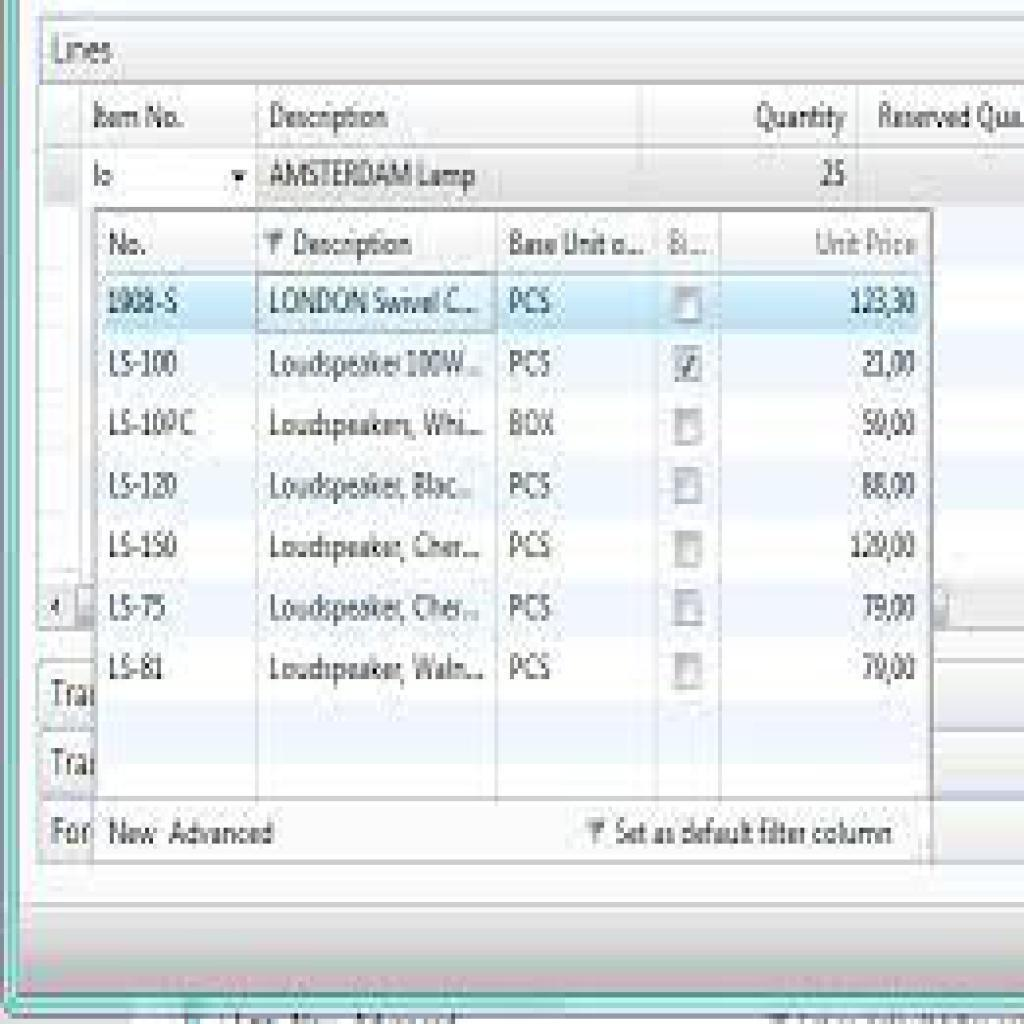checkbox: (672, 343, 706, 384), (670, 284, 702, 322), (674, 588, 705, 627), (674, 408, 705, 446), (674, 531, 705, 568), (675, 652, 705, 690), (674, 466, 704, 502)
dropdown: (82, 148, 255, 205)
table: (94, 212, 930, 799)
